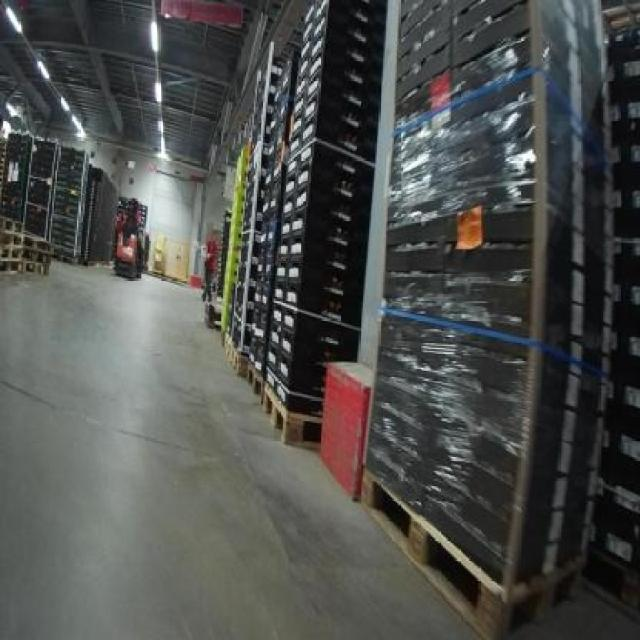floor: (0, 262, 471, 637)
pallets: (362, 0, 603, 635), (214, 0, 383, 438), (583, 0, 637, 608), (318, 360, 371, 495)
